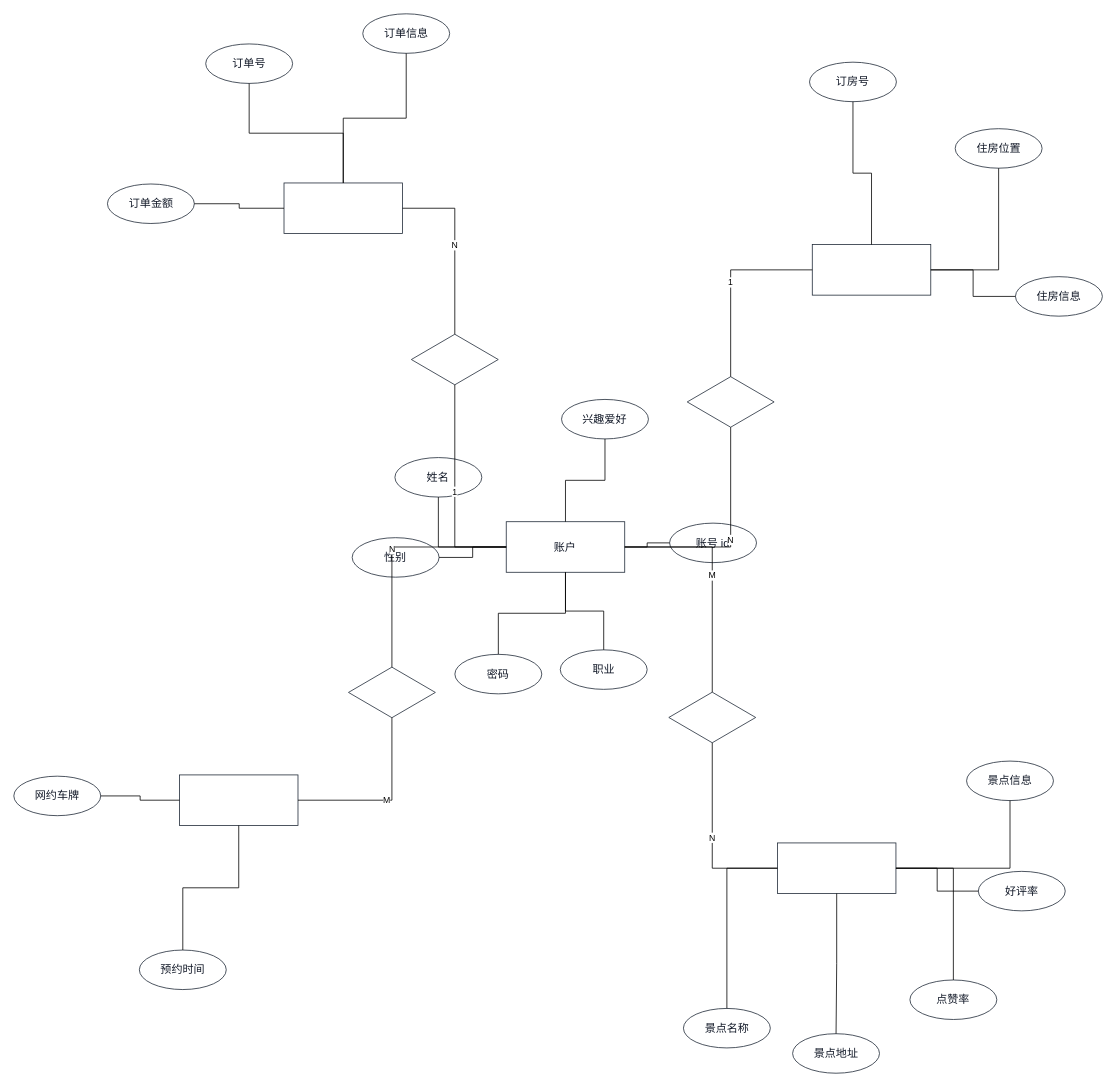
Some shapes in this 1116 by 1087 pixel diagram are drawn without their labels. Here are the shapes that lost their labels. From the top down, the centre of each, then its label:
At pixel 343 208: "订单".
At pixel 871 269: "住房".
At pixel 454 359: "下单".
At pixel 730 401: "订阅".
At pixel 391 692: "预约".
At pixel 712 717: "选择".
At pixel 238 799: "网约车".
At pixel 836 867: "景点".
